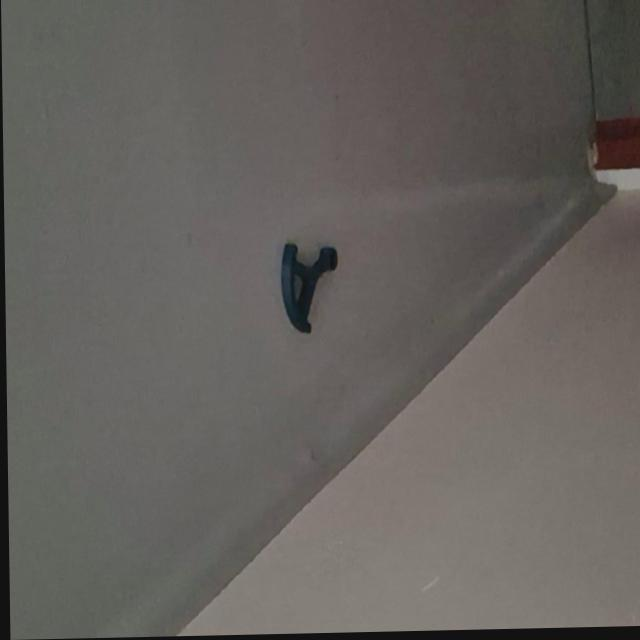haptic: (279, 240, 339, 336)
